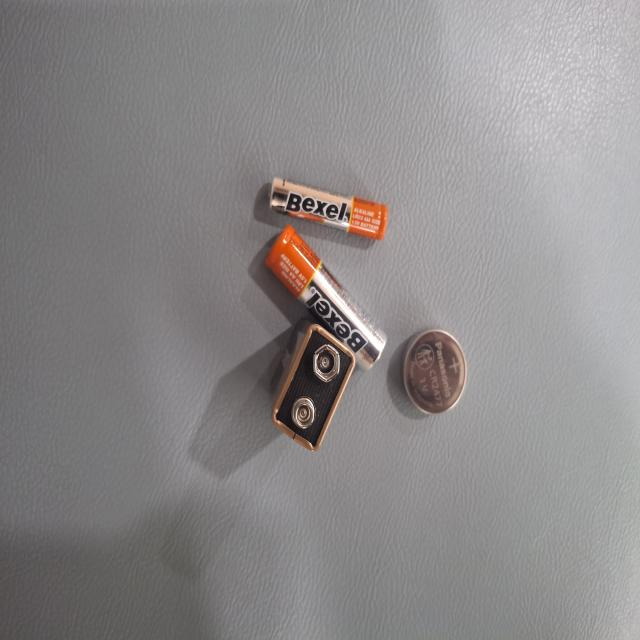9V: (239, 374, 340, 494)
AA: (170, 339, 276, 500)
AAA: (131, 337, 181, 495)
COIN: (246, 231, 311, 317)
